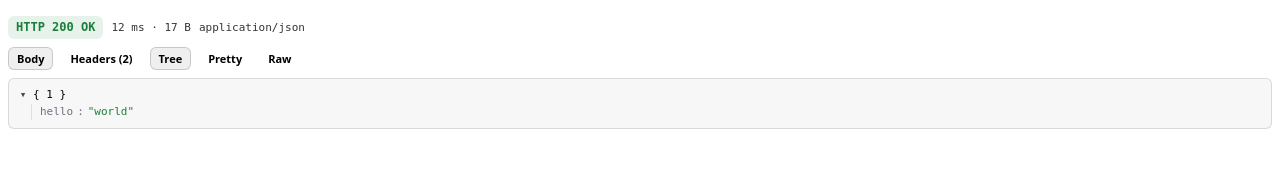
Test: ResponseView › shows response headers, including the redaction note
Step 1. Click the tab "Headers (2)" → (101, 58), box [61,47,142,70]
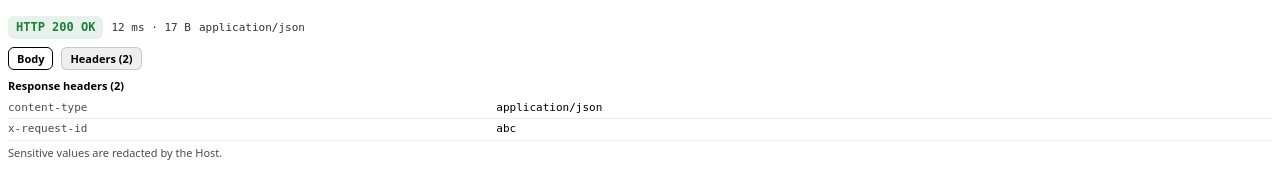
Check: the number of list items is 2, box [8,98,1272,119]; [8,119,1272,141]
Check: the text "x-request-id" is shown, box [8,122,88,135]
Check: the text "Sensitive values are redacted" is shown, box [8,145,222,160]
